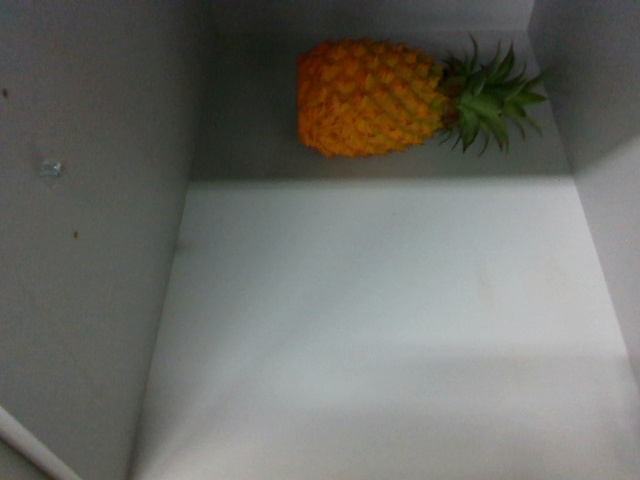pineapple: (292, 37, 548, 157)
